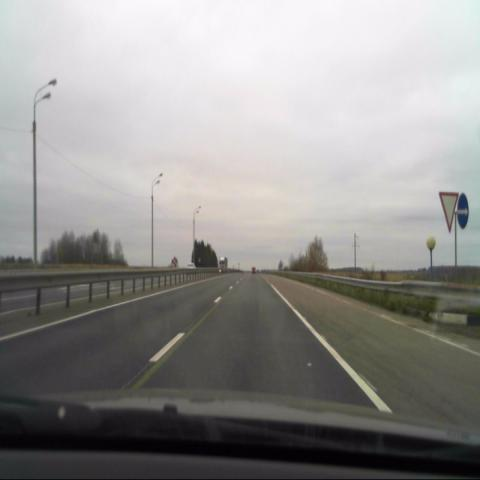4_1_2_1: (457, 192, 469, 229)
